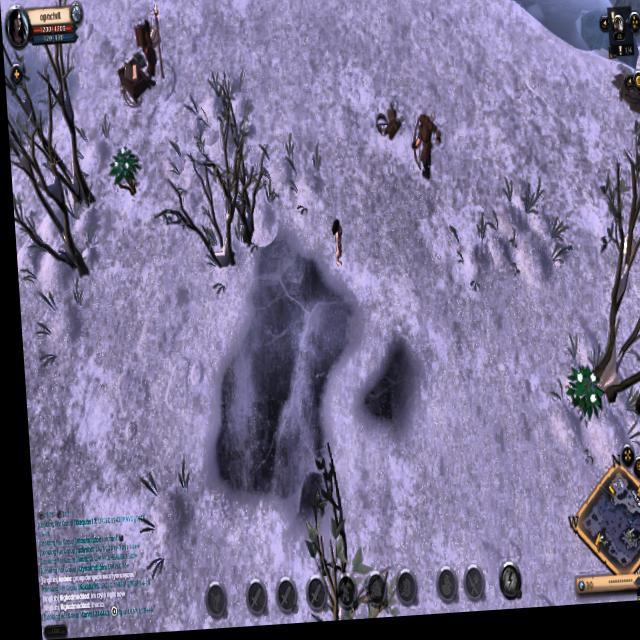flax: (557, 364, 603, 431), (106, 141, 140, 204)
mob: (406, 109, 442, 193), (129, 7, 167, 86)
